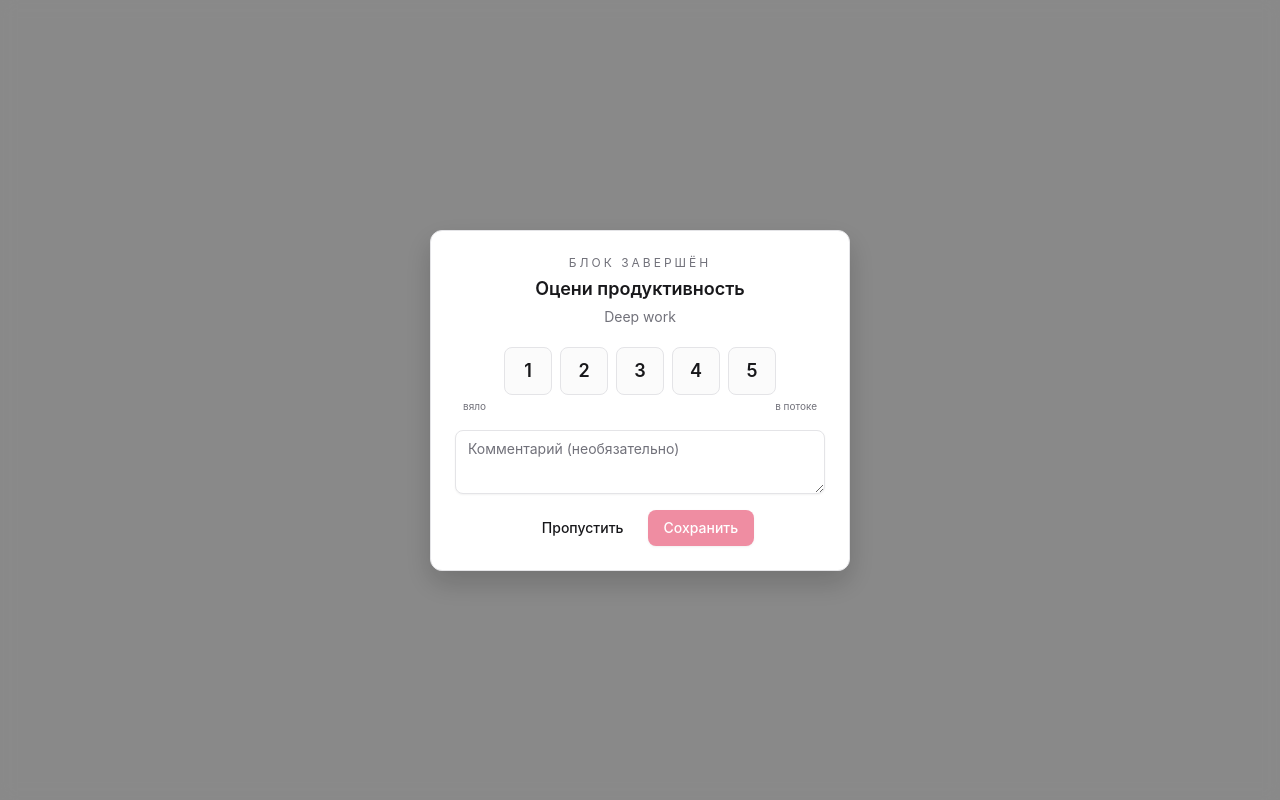
Test: ReviewModal › submit is disabled until a score is chosen
Check: the button with test id "review.submit" is disabled, box [648, 510, 754, 546]
Click the radio button with test id "review.scale-4": (696, 370) [672, 346, 720, 394]
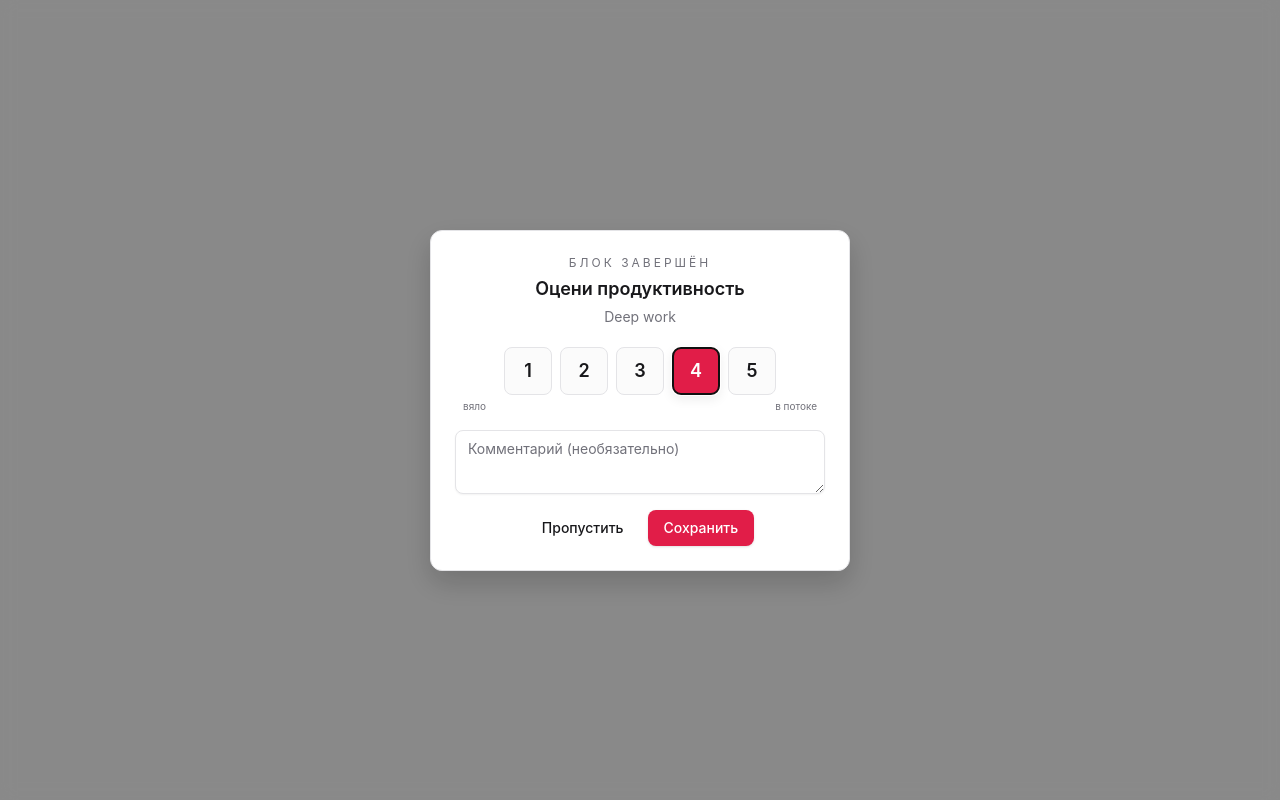
Check: the button with test id "review.submit" is enabled, box [648, 510, 754, 546]
